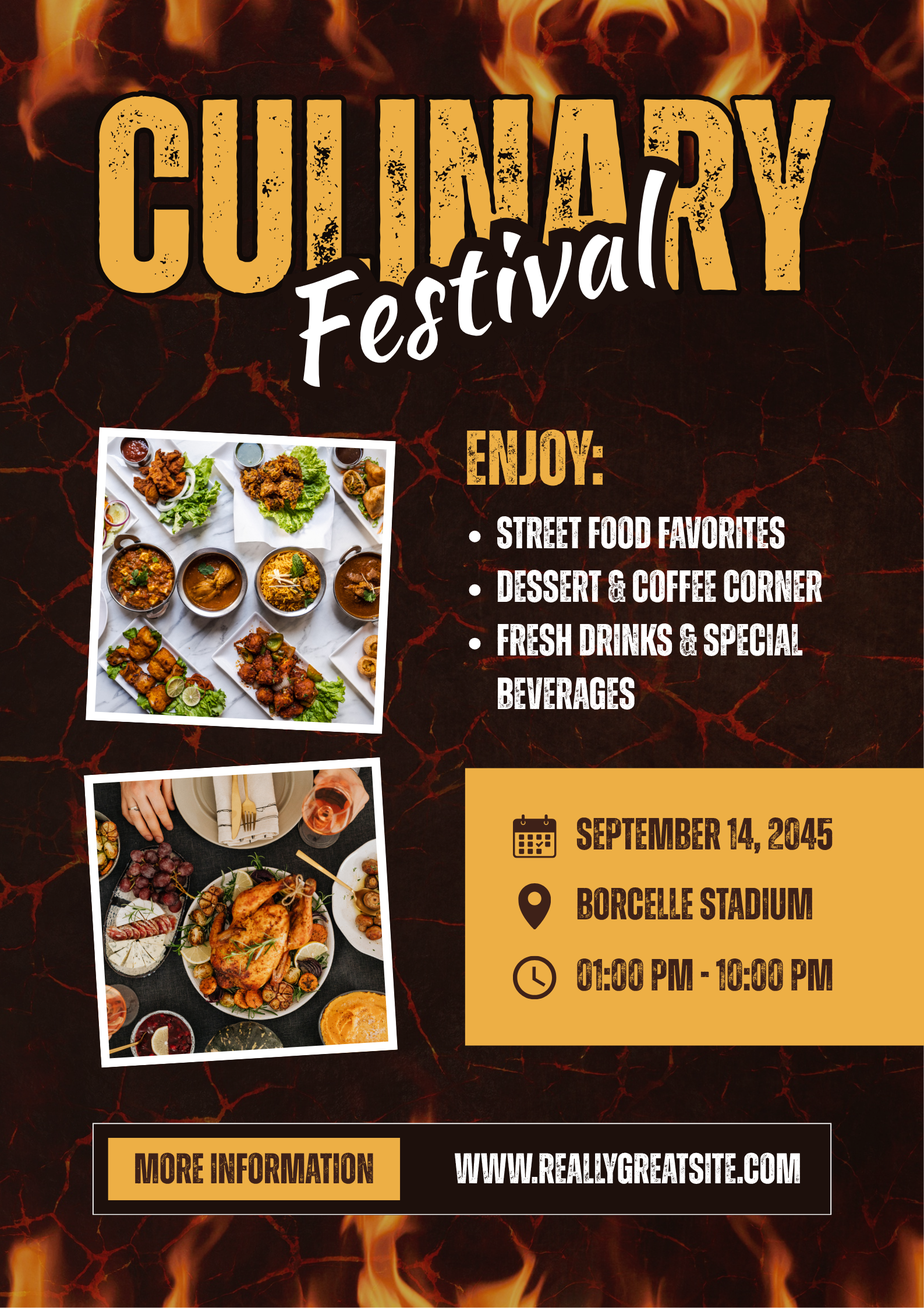CTA: (72, 1122, 435, 1220)
Headline: (67, 76, 842, 391)
Product: (80, 417, 420, 1079)
